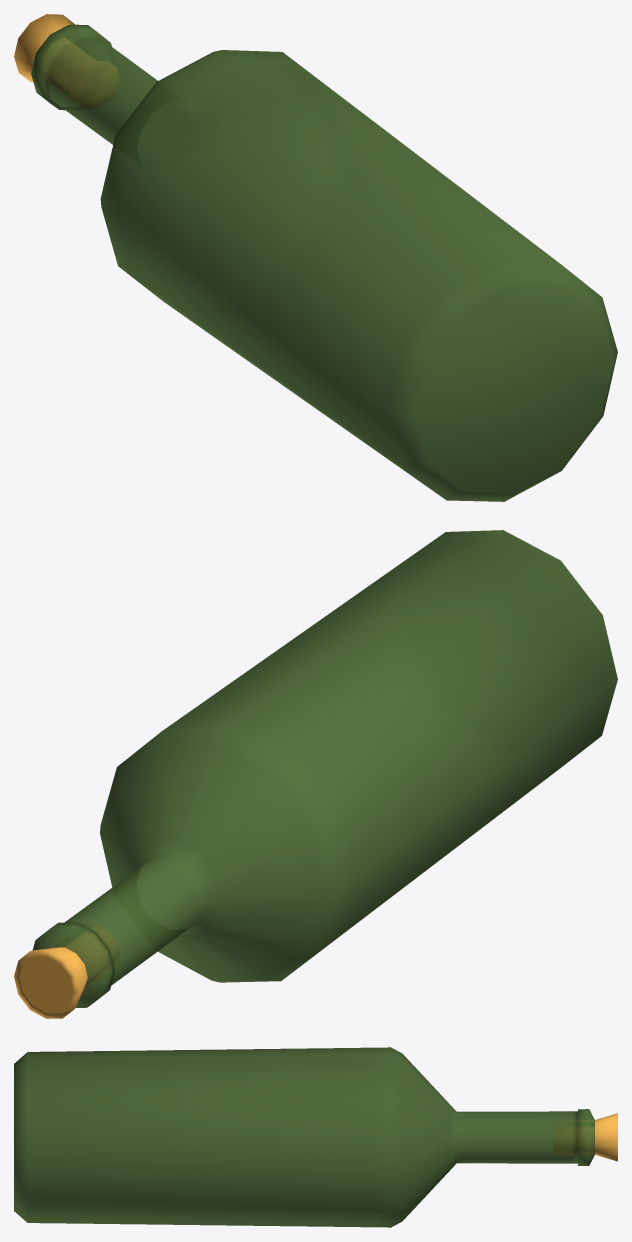
Rendered from vino.fbx.
The picture shows the model from 3 angles, top to bottom: view 1: azimuth 30°, elevation 25°; view 2: azimuth 150°, elevation 25°; view 3: azimuth 270°, elevation 25°; orthographic projection. The views are drawn at different scales.
Parts seen in each view (by area): view 1: Vert; view 2: Vert; view 3: Vert.
Boxes of the visible parts, x1,y1,x2,y2 form: Vert: (14, 14, 617, 501); Vert: (14, 530, 617, 1018); Vert: (14, 1047, 617, 1227).
Size of the model in its own units: 0.1966 by 0.1966 by 0.6563.
